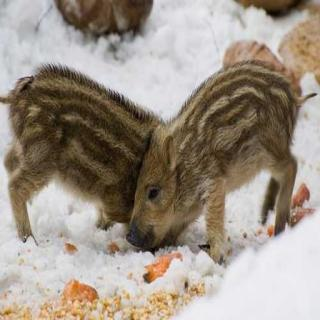Pig: (125, 53, 306, 259), (4, 72, 168, 280)
